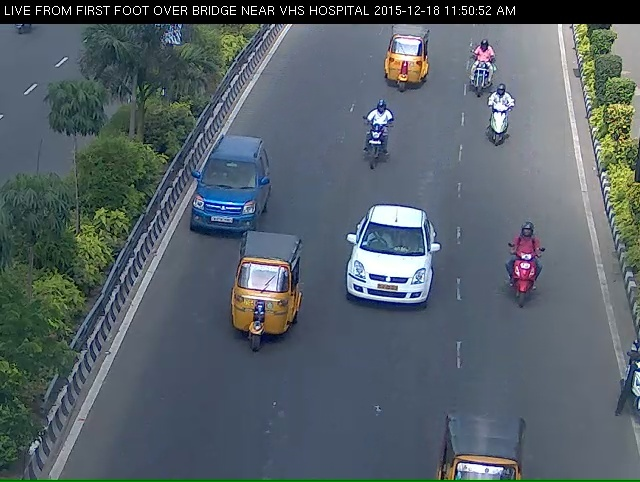Car: (336, 225, 439, 337), (221, 258, 294, 371), (183, 148, 257, 254), (379, 32, 433, 104)
Person: (506, 243, 549, 338), (355, 115, 387, 187), (460, 47, 493, 109), (488, 99, 512, 169)
